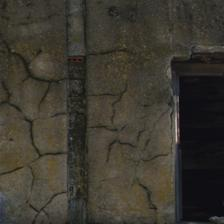Crack: (27, 40, 113, 91), (32, 53, 92, 114), (26, 95, 136, 127), (17, 0, 51, 74), (11, 11, 64, 51), (50, 40, 112, 74), (23, 0, 59, 35)
